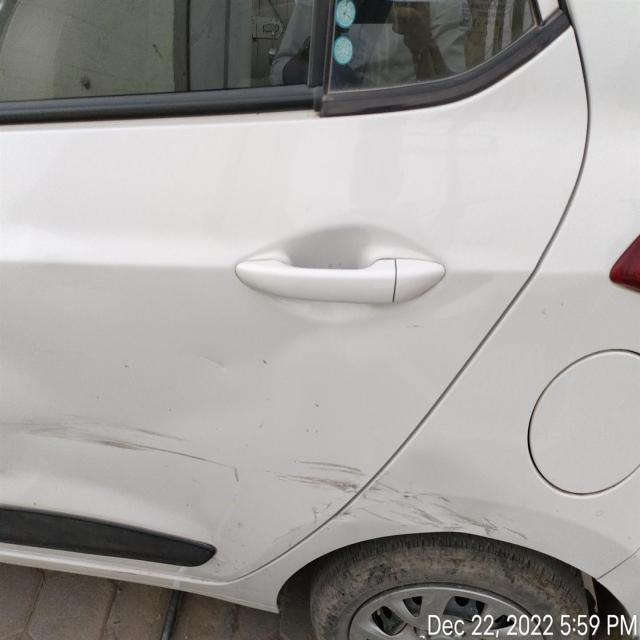damage: (20, 414, 530, 547)
